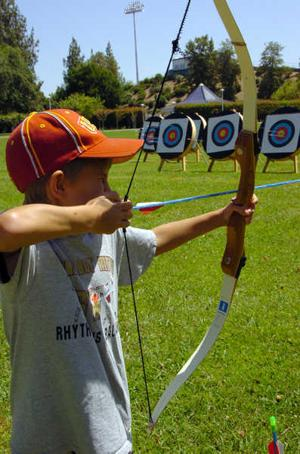person: (2, 108, 258, 450)
